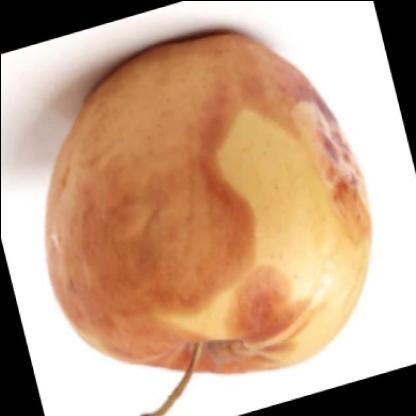defect: (43, 35, 246, 327), (289, 97, 371, 270)
